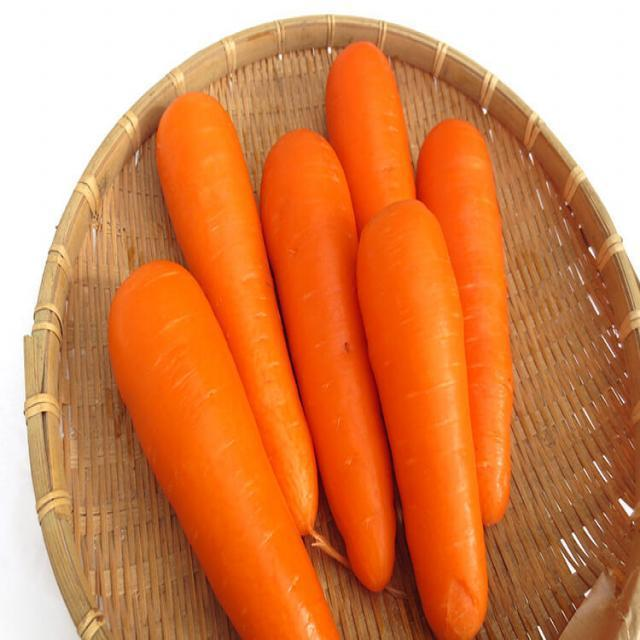carrot: (110, 260, 342, 640), (158, 85, 326, 540), (256, 124, 391, 589), (348, 198, 486, 640), (416, 113, 514, 538)
